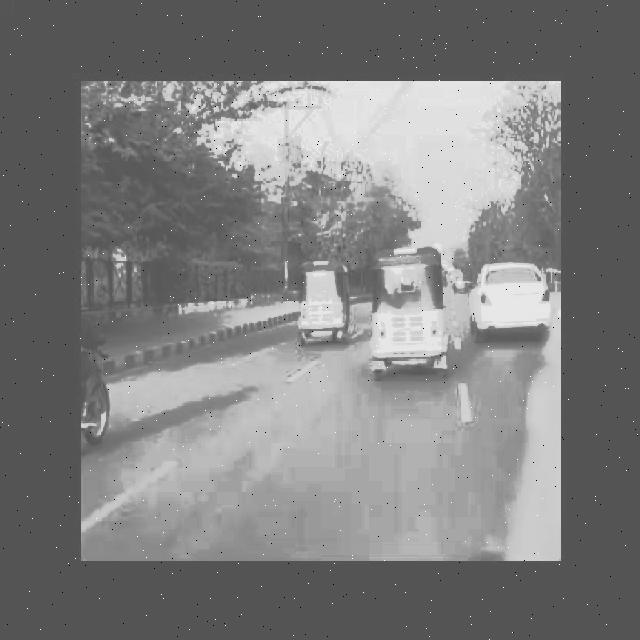Car: (468, 251, 560, 367)
